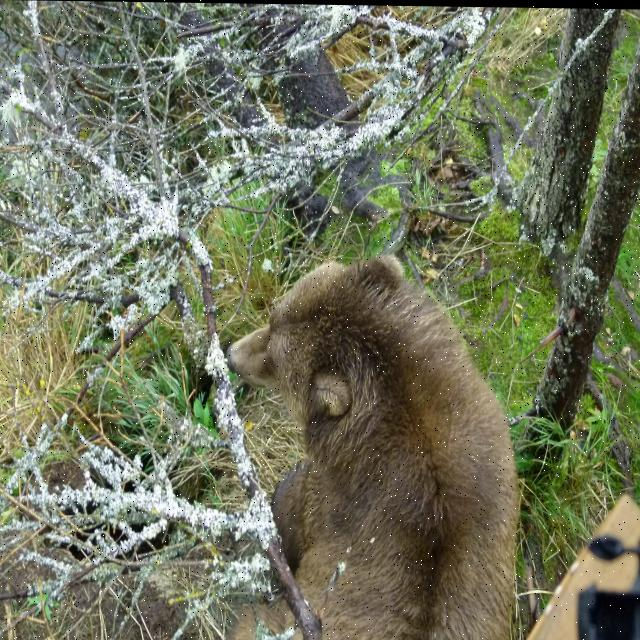bear face: (225, 251, 520, 640)
